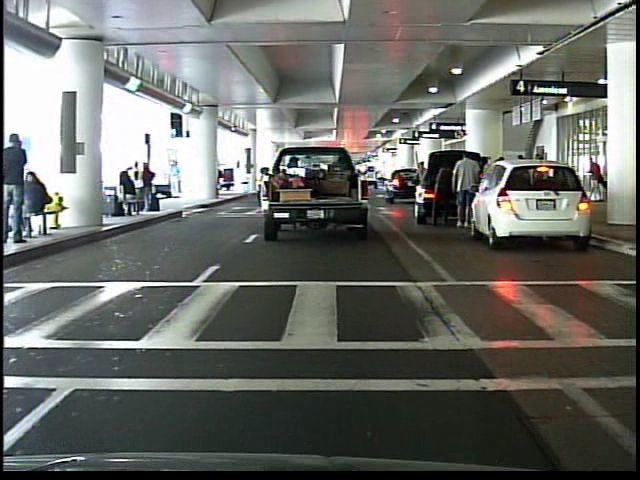person: (6, 132, 35, 248), (452, 147, 481, 232), (427, 155, 458, 230), (582, 154, 607, 204), (412, 157, 430, 212), (168, 157, 186, 200)
